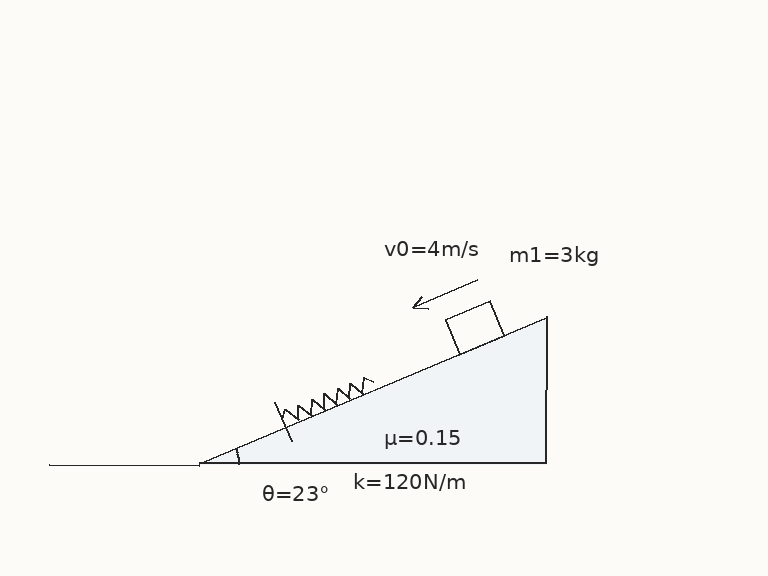block: (443, 300, 506, 356)
ramp: (197, 315, 548, 466)
spring: (280, 375, 374, 422)
